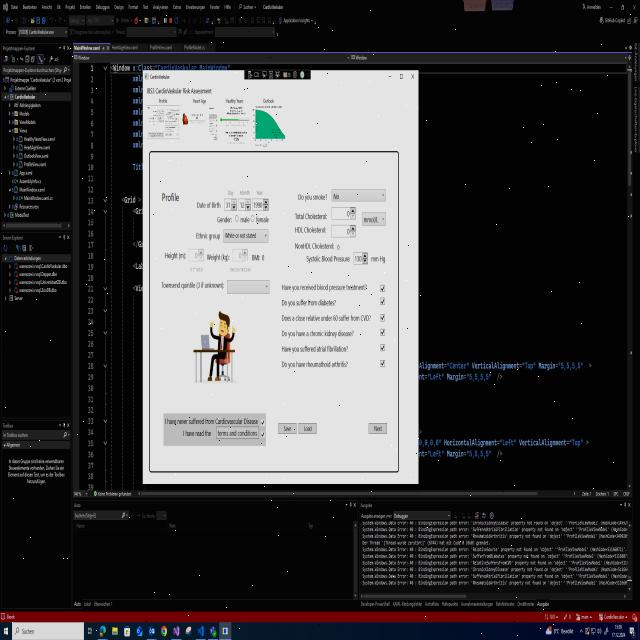button: (214, 426, 260, 439), (278, 420, 298, 438), (298, 420, 318, 438), (367, 421, 390, 436), (407, 71, 418, 84), (385, 72, 395, 82), (397, 72, 405, 83)
checkbox: (379, 358, 386, 371), (259, 418, 267, 428), (379, 282, 386, 293), (379, 312, 386, 323), (379, 327, 386, 338), (379, 343, 386, 354), (260, 429, 266, 441), (380, 296, 386, 307)
dropdownMenu: (330, 186, 388, 204), (222, 226, 271, 245), (226, 276, 271, 295), (360, 209, 389, 229)
input: (12, 621, 84, 640)
label: (164, 414, 259, 426), (280, 281, 367, 294), (282, 312, 371, 324), (160, 280, 225, 292), (280, 329, 355, 339), (280, 344, 351, 354), (280, 360, 350, 370), (145, 86, 213, 96), (291, 240, 341, 253), (280, 298, 339, 308), (306, 254, 353, 265), (160, 186, 182, 207), (292, 224, 328, 236), (195, 198, 223, 211), (194, 230, 222, 243), (164, 250, 190, 264), (182, 428, 212, 440), (205, 250, 230, 264), (293, 211, 328, 221), (297, 191, 328, 202), (98, 490, 133, 498), (222, 94, 247, 104), (213, 214, 235, 225), (228, 265, 252, 274), (150, 72, 171, 82), (251, 251, 267, 264), (260, 95, 278, 105), (191, 96, 208, 106), (372, 253, 386, 265), (255, 214, 271, 224), (360, 500, 375, 510), (238, 186, 251, 197), (188, 266, 204, 274), (156, 96, 170, 105), (255, 185, 265, 197), (224, 188, 236, 197), (239, 216, 250, 225)
radio: (234, 212, 240, 225), (250, 213, 256, 225)
upDown: (331, 205, 356, 221), (331, 223, 356, 238), (252, 196, 270, 212), (232, 247, 249, 263), (353, 250, 369, 265), (188, 248, 205, 262), (238, 197, 251, 212), (224, 197, 237, 211)
